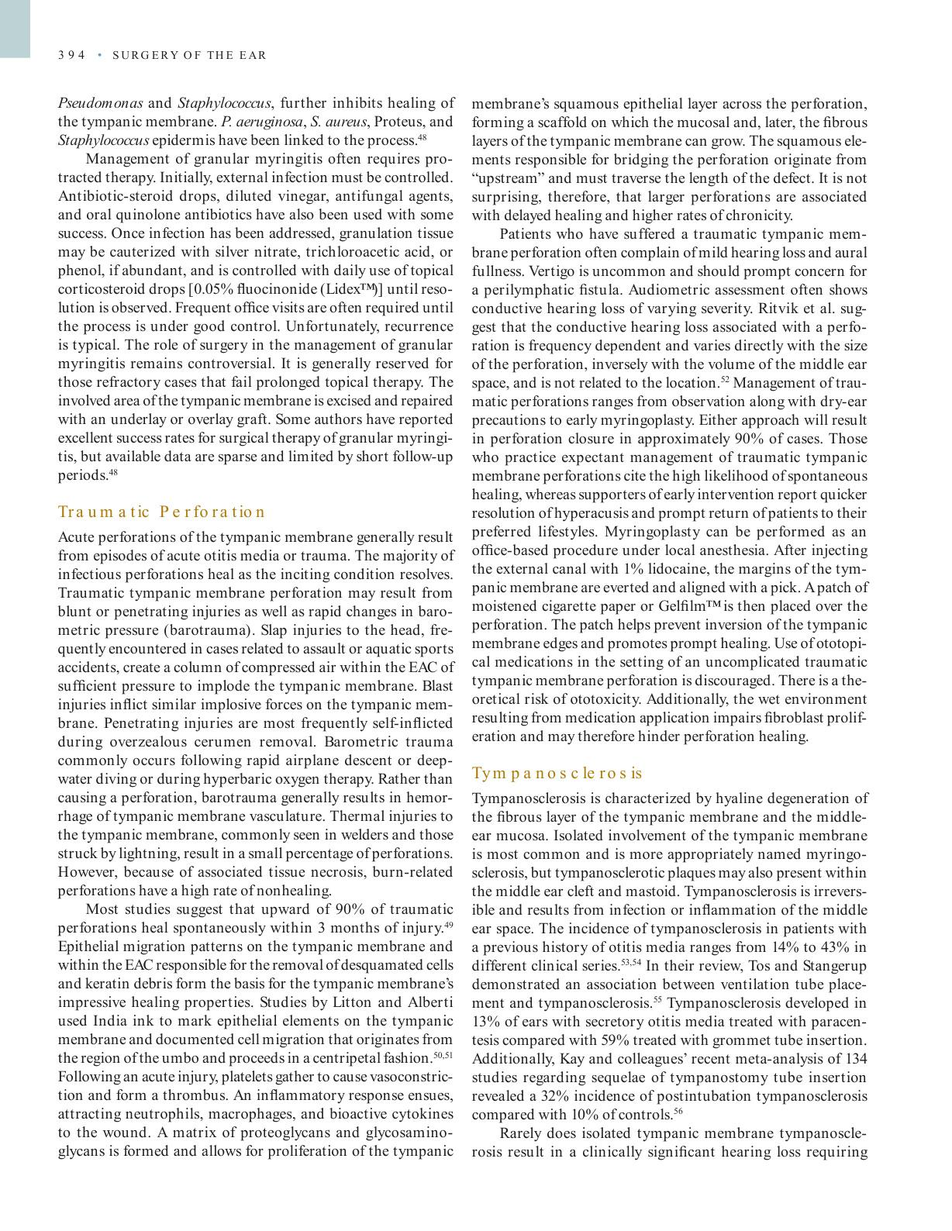header: (112, 48, 268, 61)
sub-section-heading: (55, 501, 268, 519), (470, 763, 644, 784)
text: (468, 96, 870, 748), (56, 525, 455, 1162), (56, 92, 457, 488), (468, 787, 872, 1163)
